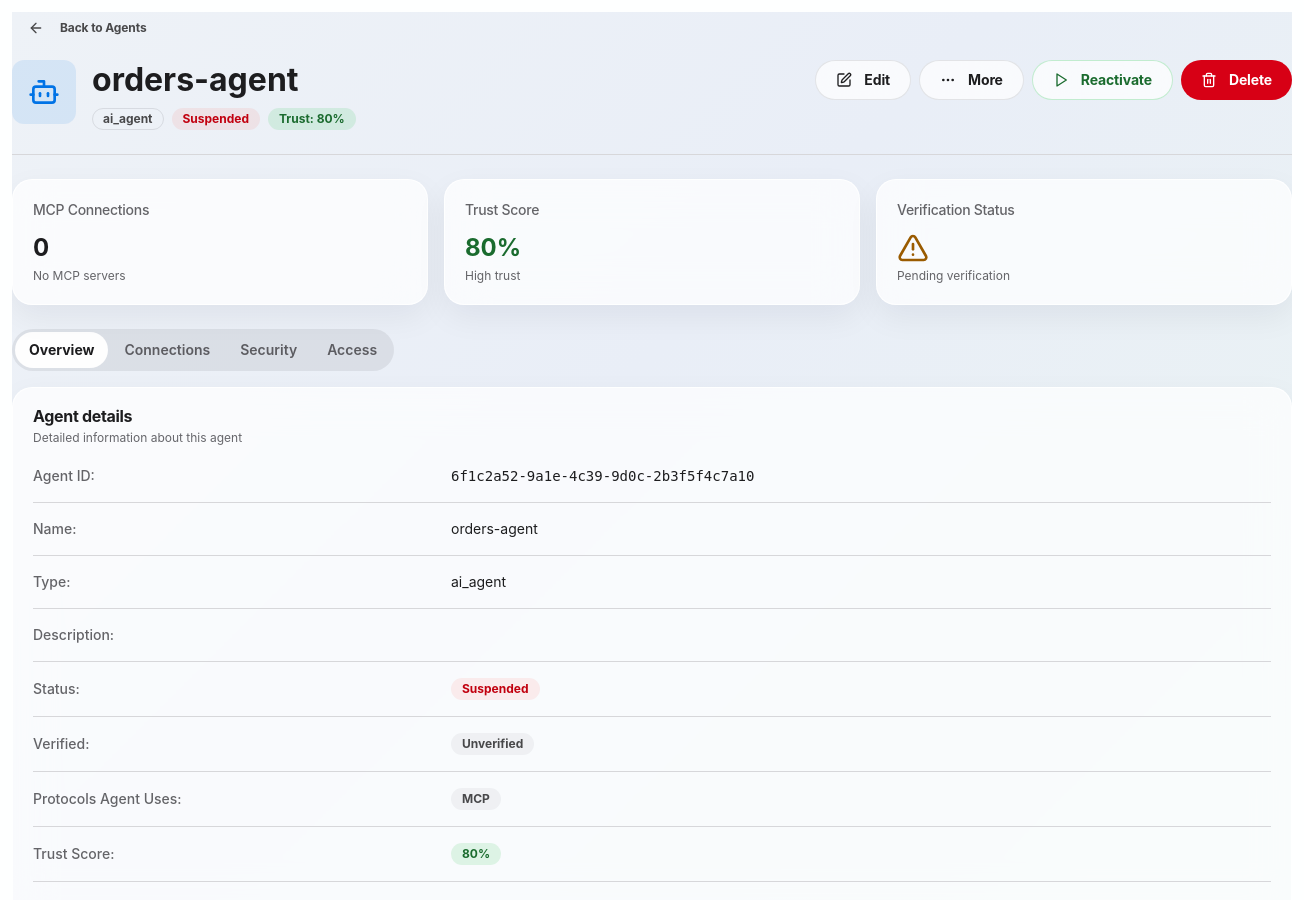
Scenario: agent page lifecycle outcomes › replaces a refusal of the record path with the reason of the next failure, never both
Click the button "Reactivate". click: {"x": 1102, "y": 80}
box: [1032,60,1173,100]
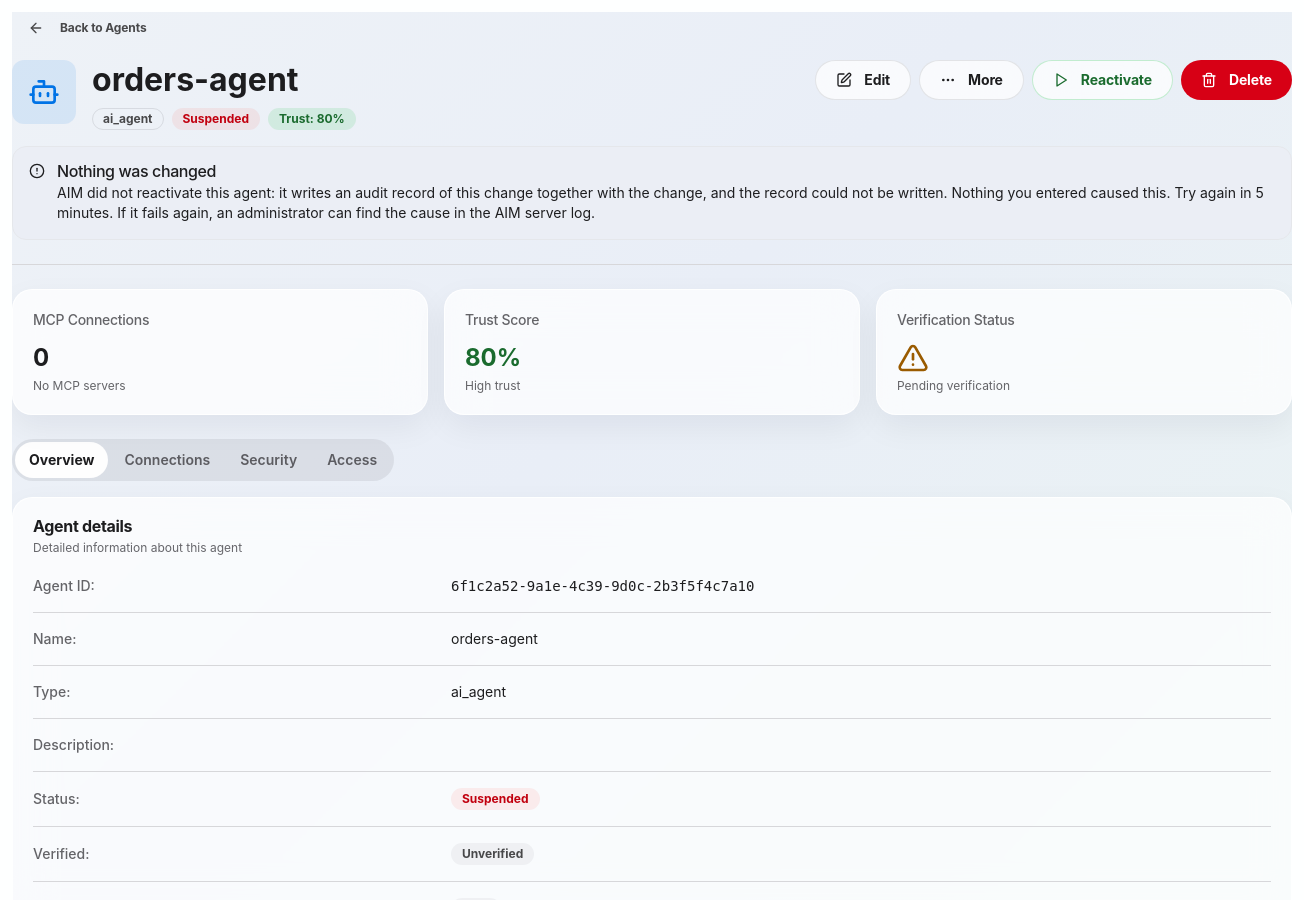
Now the message shows "Nothing was changed", box [57,161,216,181]
Click the button "Reactivate". click: {"x": 1102, "y": 80}
box: [1032,60,1173,100]
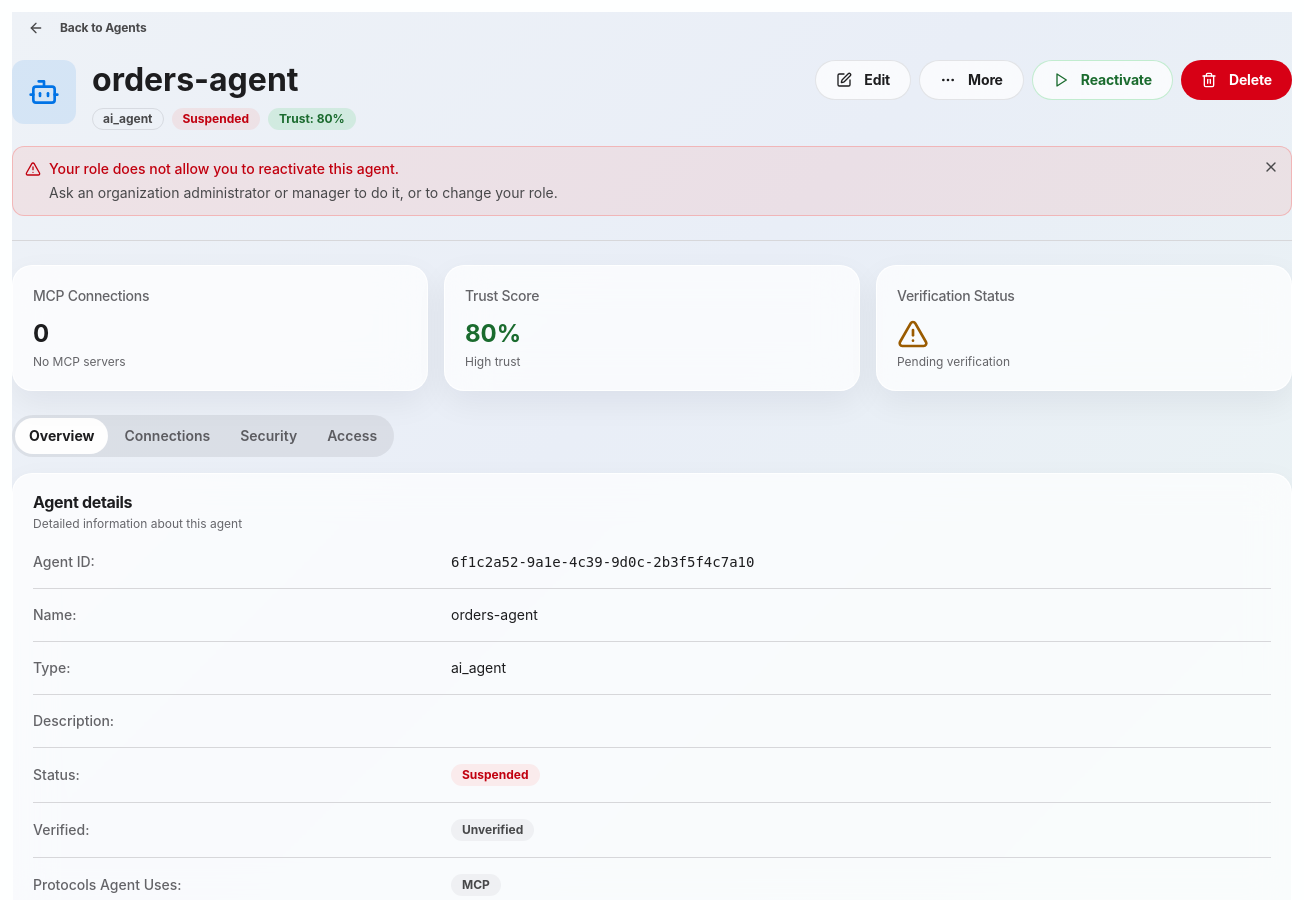
Now the text "Your role does not allow you to reactivate this agent." is shown, box [49,160,399,177]
Now the number of messages is 1, box [12,146,1292,216]
Now the heading "Nothing was changed" is gone
